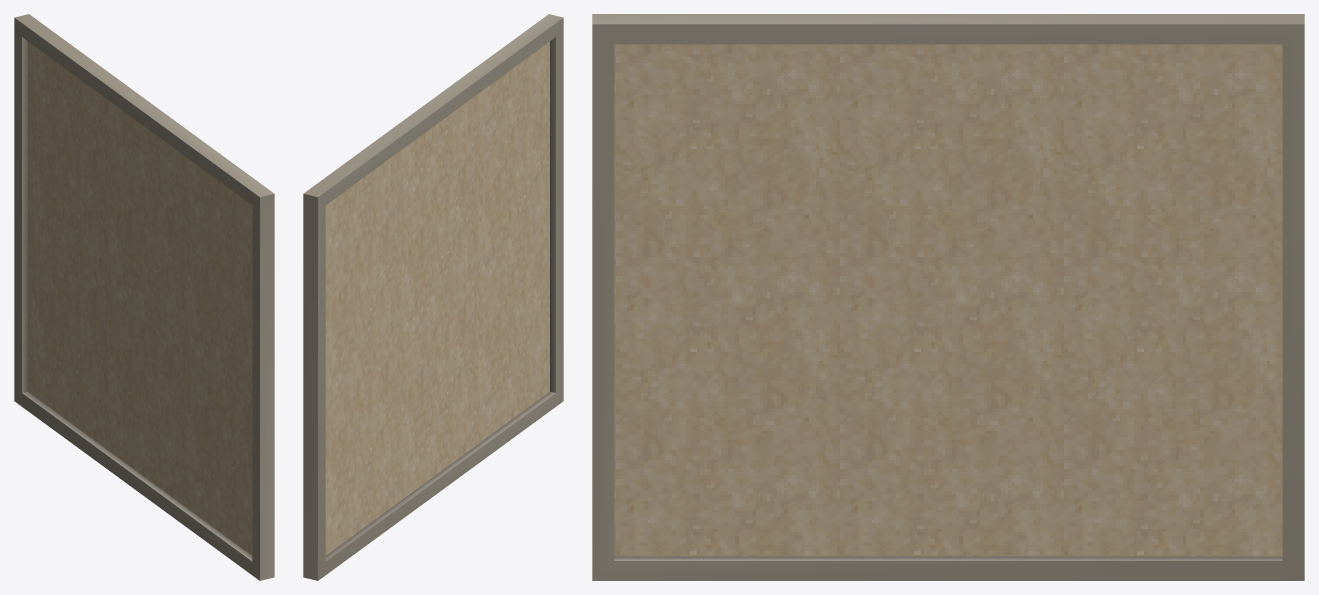
The model's file is tutikabe_3jyo_01.fbx.
3 renders of one model, left to right at view 1: azimuth 30°, elevation 25°; view 2: azimuth 150°, elevation 25°; view 3: azimuth 270°, elevation 25°, orthographic. The views are drawn at different scales.
Parts seen in each view (by area): view 1: tutikabe_3jyo_01; view 2: tutikabe_3jyo_01; view 3: tutikabe_3jyo_01.
Boxes of the visible parts, x1,y1,x2,y2 form: tutikabe_3jyo_01: (14, 14, 274, 580); tutikabe_3jyo_01: (303, 14, 563, 580); tutikabe_3jyo_01: (592, 14, 1304, 580).
Bounding box in the file's own units: 20 × 500 × 580.
